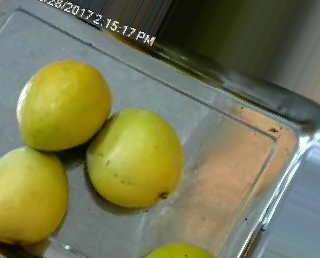Mango: (87, 108, 185, 209), (16, 62, 112, 150), (0, 147, 69, 244)
